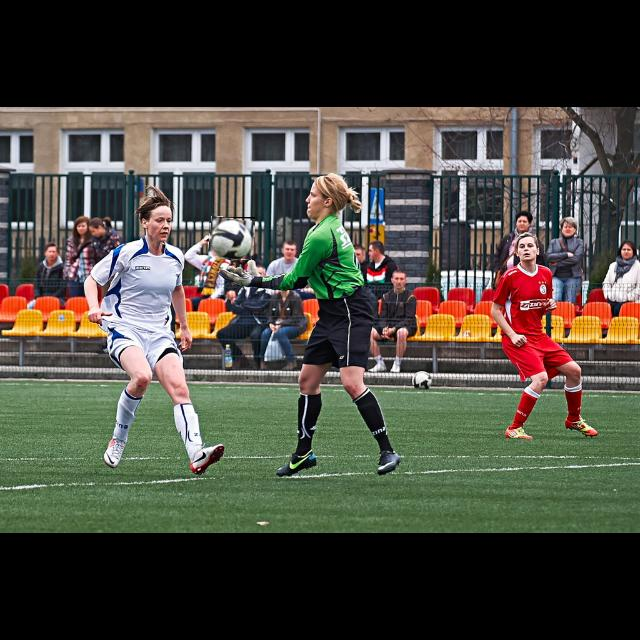Football: (209, 217, 255, 259)
